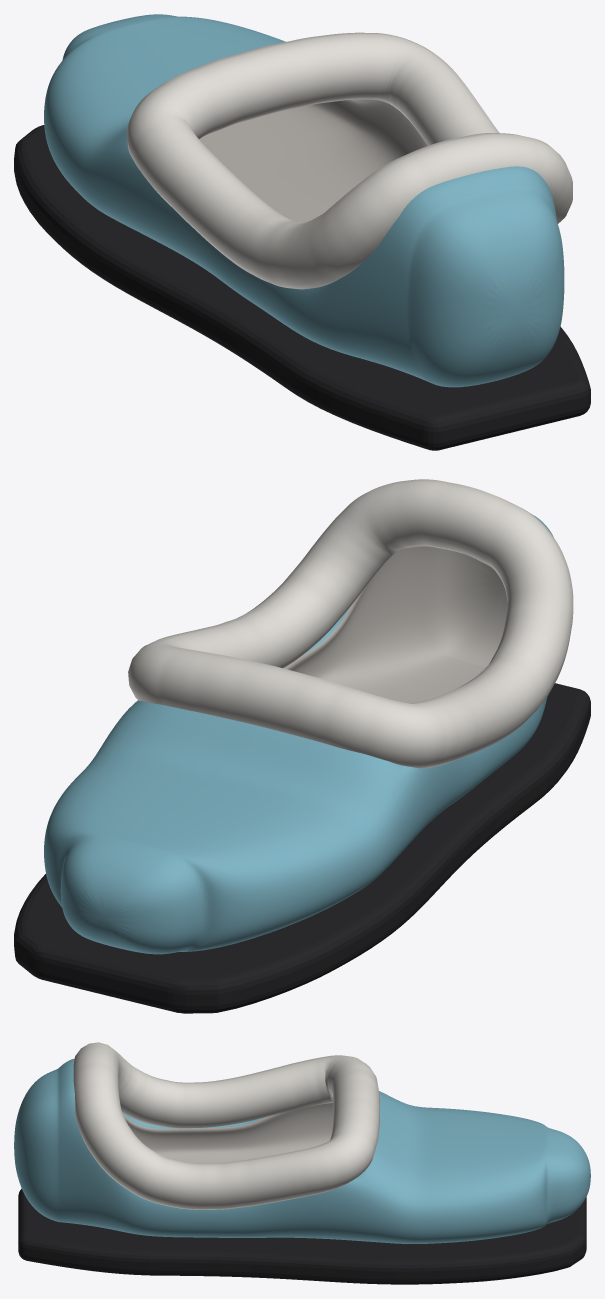
Rendered from Slipper.fbx.
The picture shows the model from 3 angles, top to bottom: view 1: azimuth 30°, elevation 25°; view 2: azimuth 150°, elevation 25°; view 3: azimuth 270°, elevation 25°; orthographic projection. The views are drawn at different scales.
Parts seen in each view (by area): view 1: SlipperUpper, SlipperRim, SlipperSole; view 2: SlipperUpper, SlipperRim, SlipperSole; view 3: SlipperUpper, SlipperRim, SlipperSole.
Boxes of the visible parts, box(x1,y1,x2,y2) form: SlipperUpper: box(44, 14, 564, 387); SlipperRim: box(126, 32, 572, 289); SlipperSole: box(14, 125, 590, 450); SlipperUpper: box(44, 514, 553, 954); SlipperRim: box(128, 479, 573, 768); SlipperSole: box(14, 683, 590, 1013); SlipperUpper: box(14, 1058, 590, 1243); SlipperRim: box(73, 1042, 379, 1209); SlipperSole: box(18, 1188, 586, 1284).
Size of the model in its own units: 0.1753 by 0.1372 by 0.3948.
